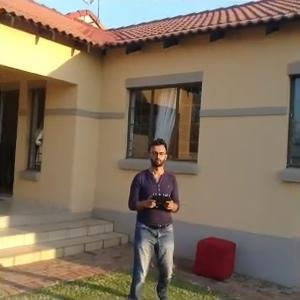follow: (122, 135, 183, 298)
